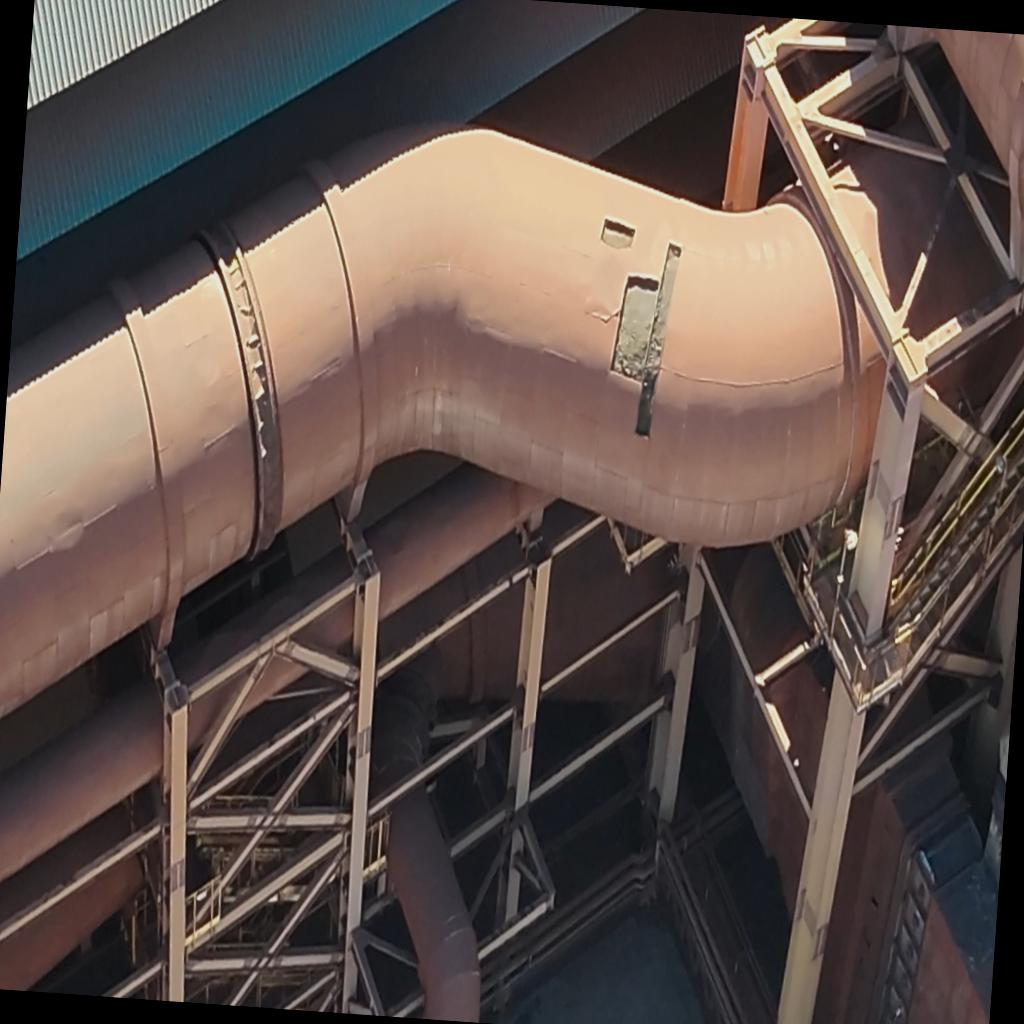Failures: (606, 240, 682, 439), (600, 216, 633, 252)
